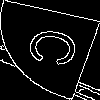C: (25, 25, 92, 73)
